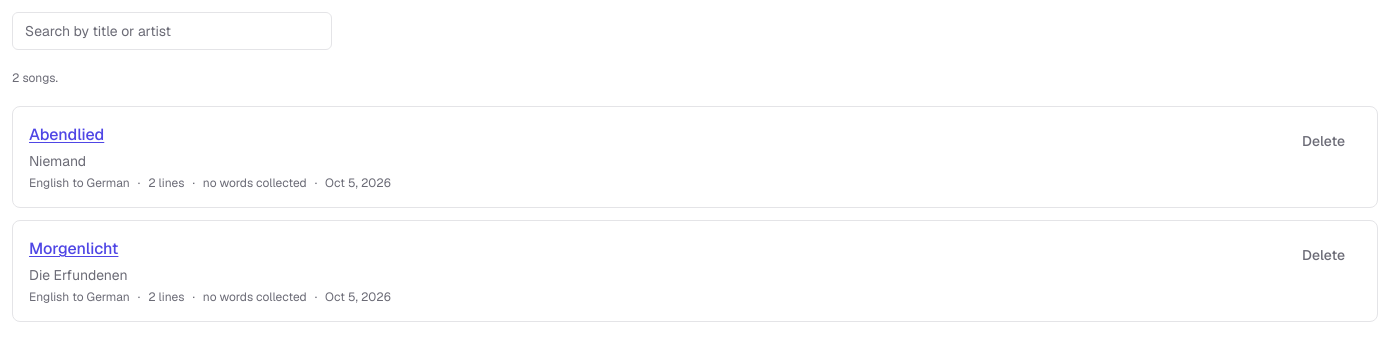
Test: SongLibrary › search › filters by title
This screenshot has width=1378, height=339.
Expected: the number of list items is 2, [12, 106, 1377, 208]; [12, 220, 1377, 322]
In the search field named "Search songs": (172, 31) [12, 12, 332, 50], type "abend"
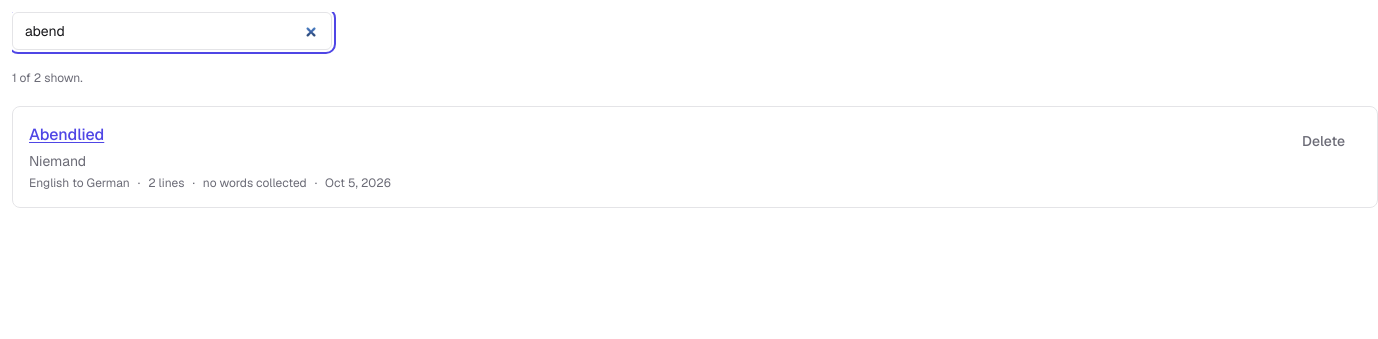
Expected: the list item shows "Abendlied", [29, 123, 1270, 147]
Expected: the number of list items is 1, [12, 106, 1377, 208]
